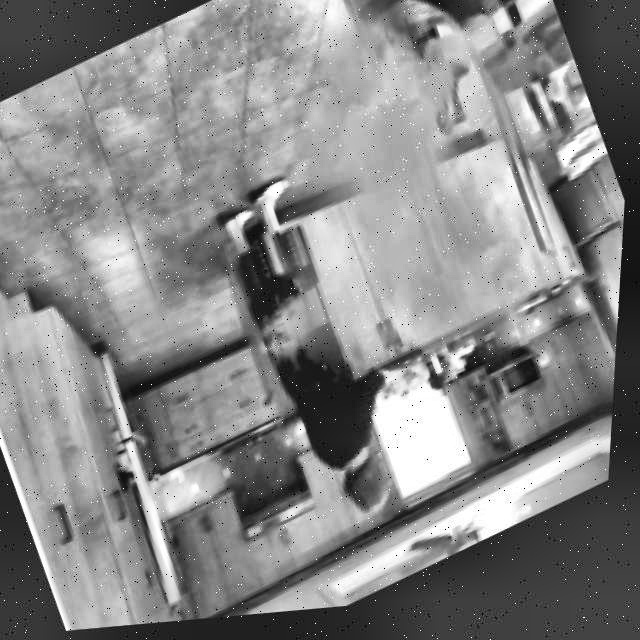Smoke: (158, 0, 627, 459)
